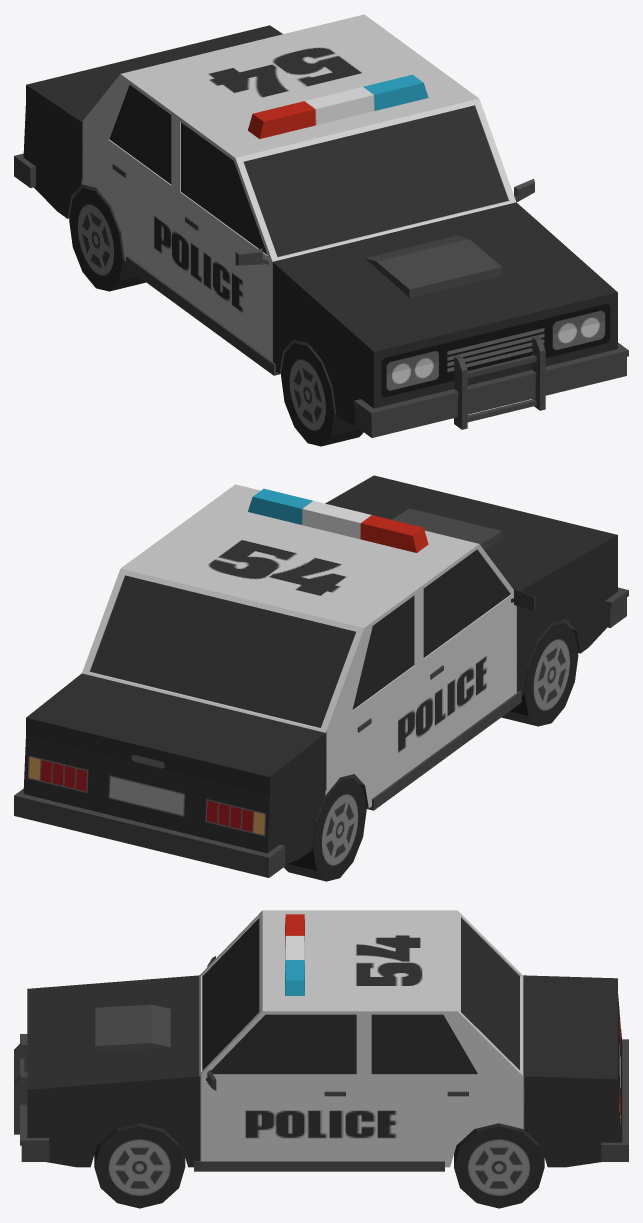
The model's file is police-car.glb.
The picture shows the model from 3 angles, top to bottom: view 1: azimuth 30°, elevation 25°; view 2: azimuth 150°, elevation 25°; view 3: azimuth 270°, elevation 25°; orthographic projection. The views are drawn at different scales.
Visible parts, largest first — view 1: Body, FR, RR; view 2: Body, RR, FR; view 3: Body, FL, RL.
Boxes of the visible parts, x1=… form: Body: x1=14, y1=14, x2=628, y2=437; FR: x1=281, y1=341, x2=363, y2=446; RR: x1=69, y1=186, x2=145, y2=291; Body: x1=14, y1=475, x2=628, y2=877; RR: x1=284, y1=776, x2=366, y2=881; FR: x1=501, y1=621, x2=578, y2=726; Body: x1=14, y1=910, x2=628, y2=1171; FL: x1=94, y1=1123, x2=185, y2=1208; RL: x1=454, y1=1123, x2=544, y2=1208.
Bounding box in the file's own units: 3.06 × 2.43 × 6.43.
1 material, 1 textured.
